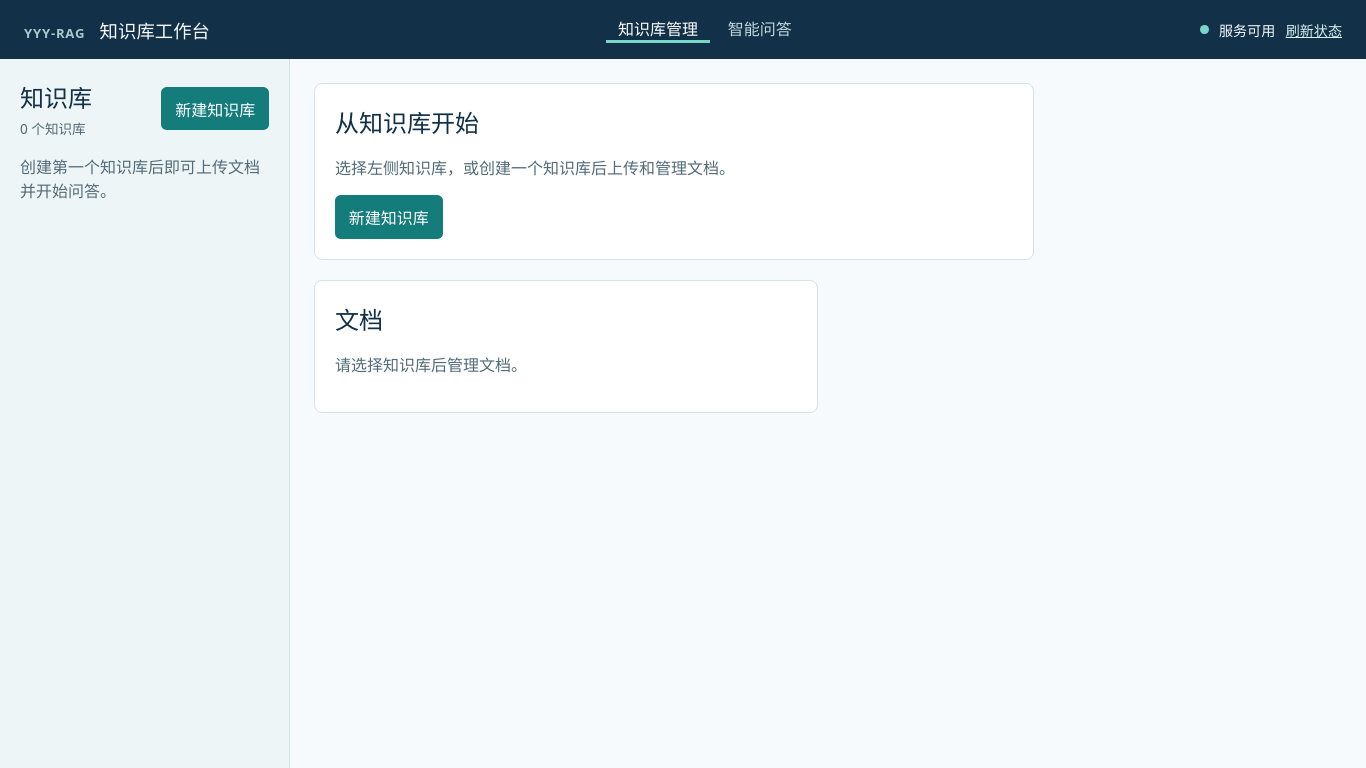
Test: 顶层导航在知识库管理和统一智能问答之间切换
Click the button "智能问答": [760, 30] box [716, 16, 804, 43]
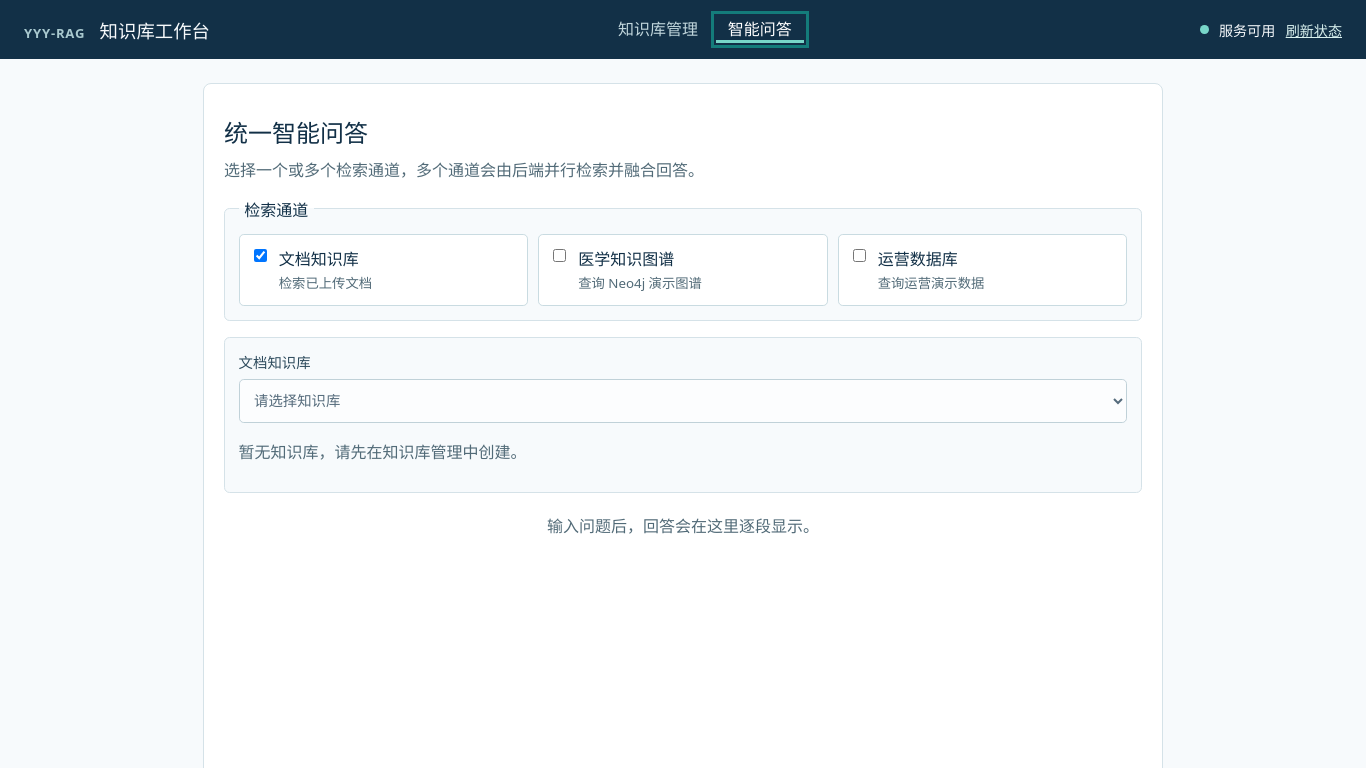
Expected: the heading "统一智能问答" is shown, [224, 116, 368, 149]
Click the button "知识库管理": [658, 30] box [606, 16, 710, 43]
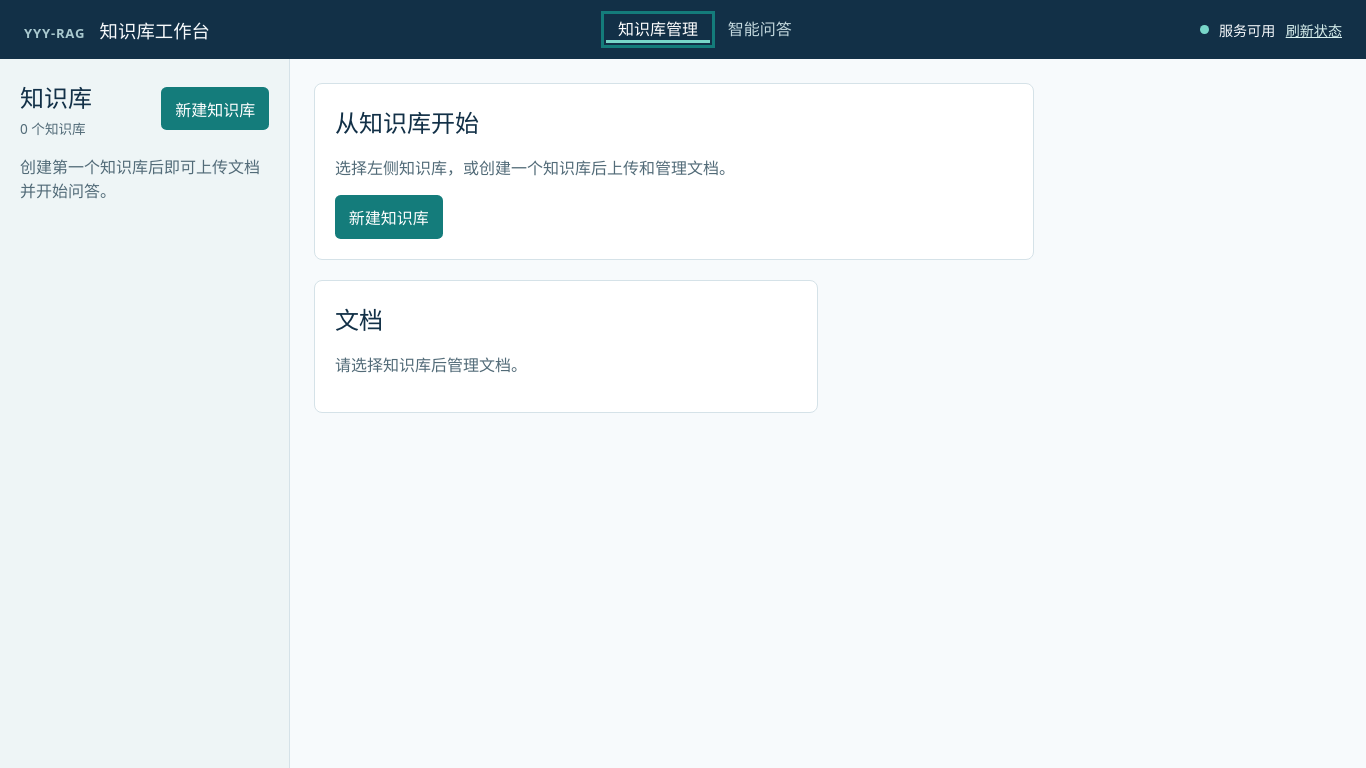
Expected: the text "请选择知识库后管理文档。" is shown, [335, 354, 527, 376]
